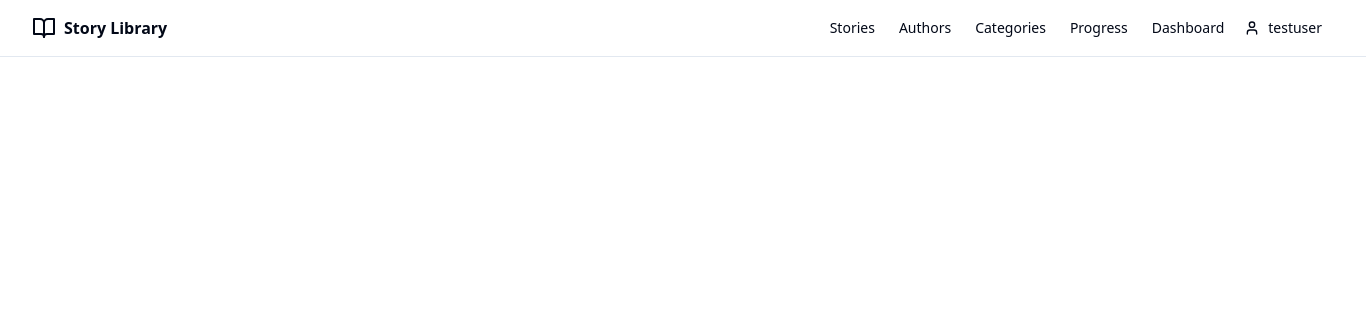
Test case: Navigation › Authenticated regular user › should show profile dropdown when clicked
The image size is (1366, 311).
Note: Use userEvent for better Radix UI interaction
Click the button "testuser" at (1283,28), box [1232,10,1334,46]
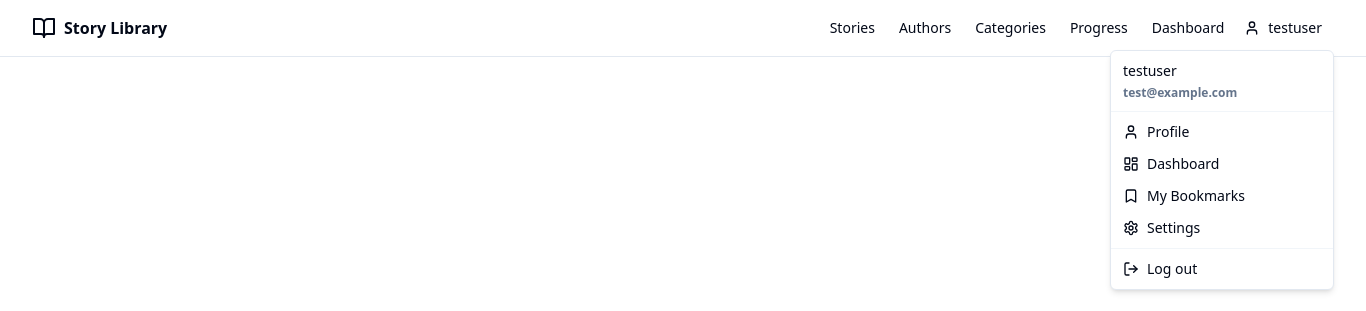
Now the text "Profile" is shown, box [1147,122,1189,142]
Now the text "Log out" is shown, box [1147,259,1197,279]
